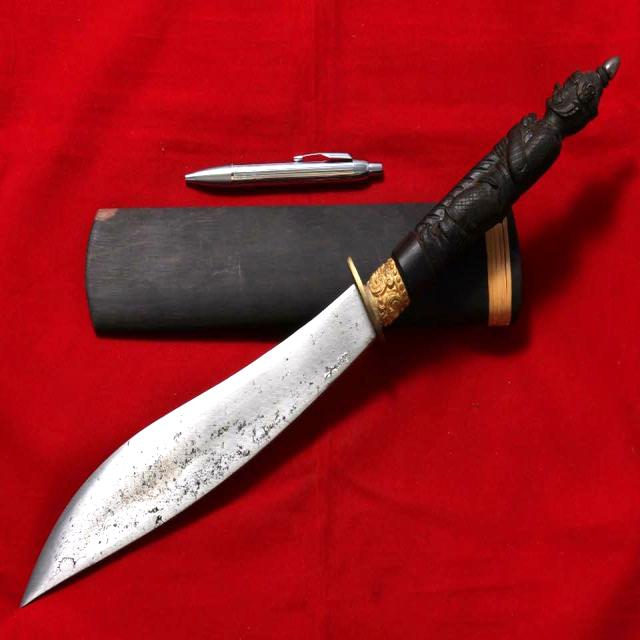short sword: (15, 46, 629, 616)
